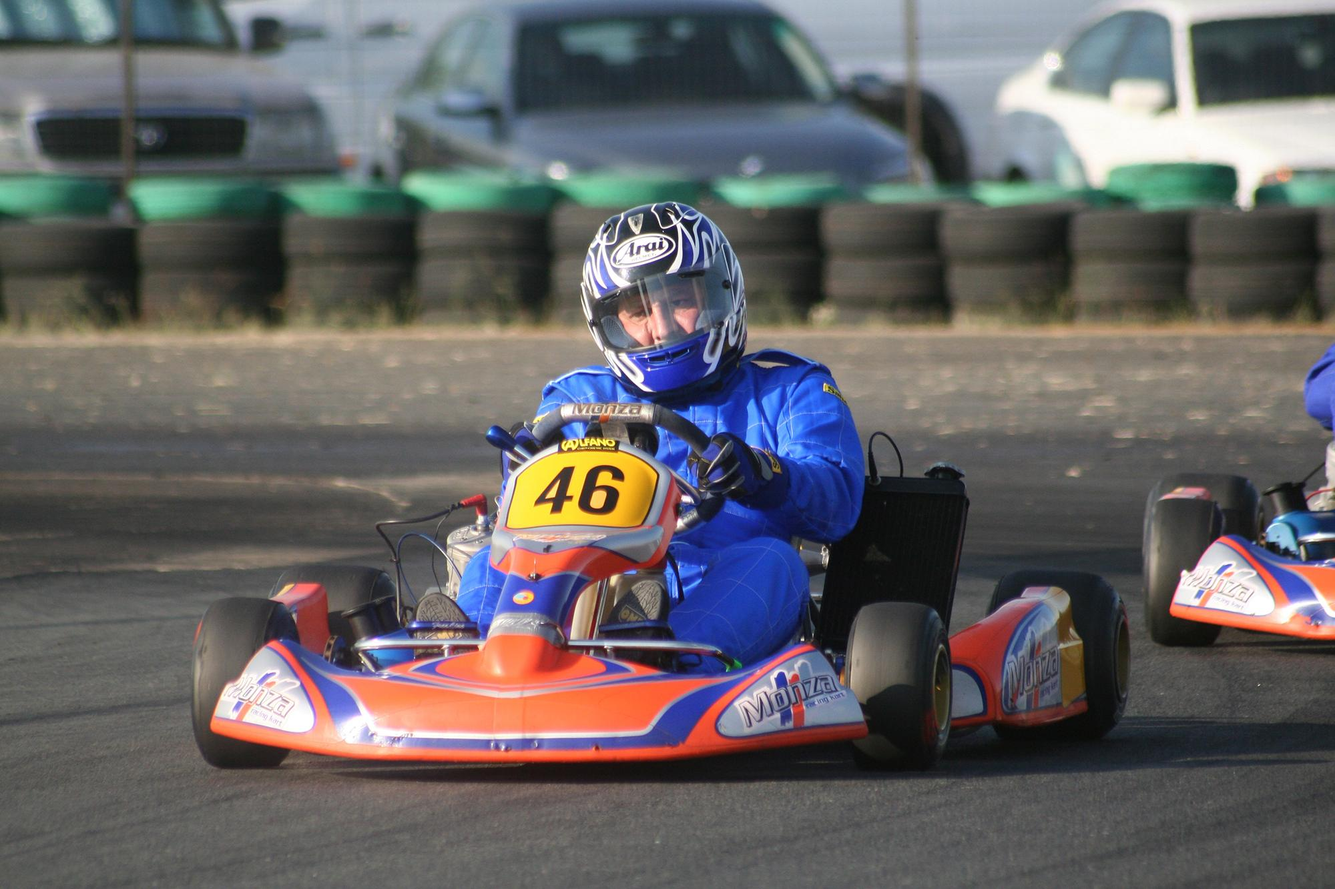helmet: (578, 200, 749, 395)
